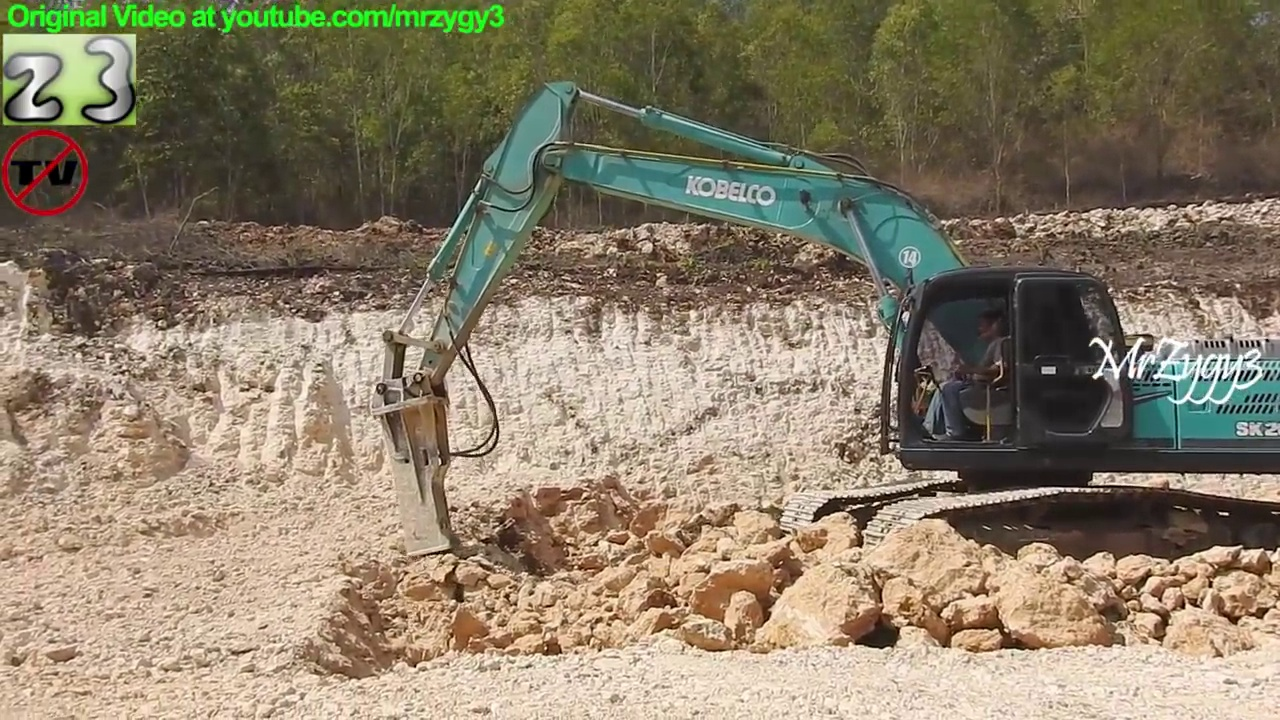excavator breaker: (369, 74, 1280, 599)
